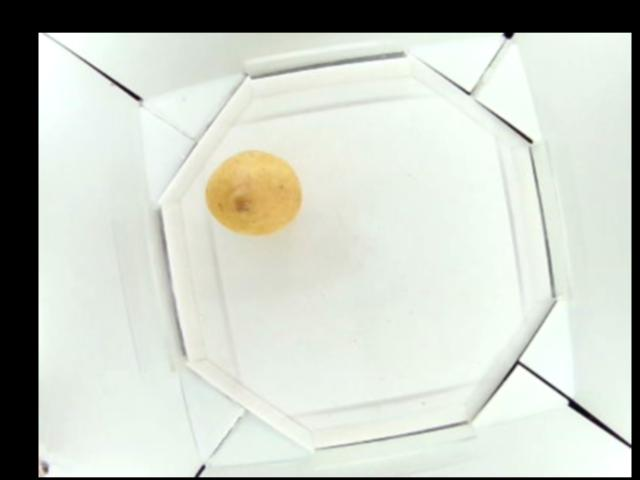Potato: (205, 149, 297, 234)
